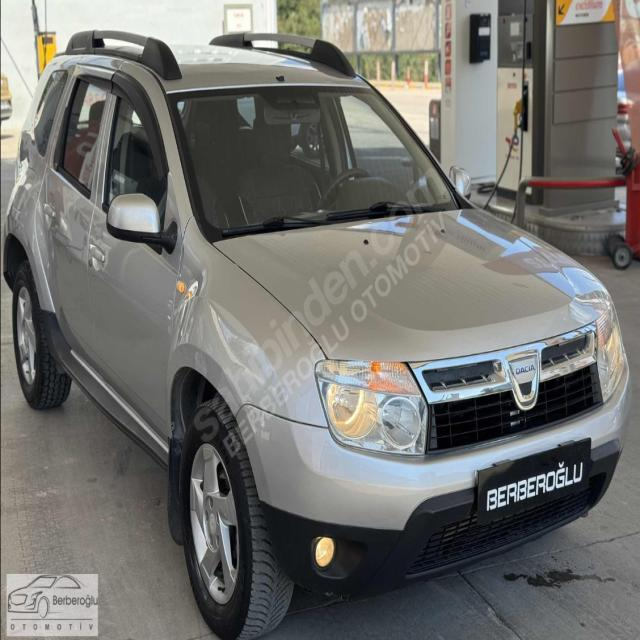dacia: (505, 346, 543, 414)
